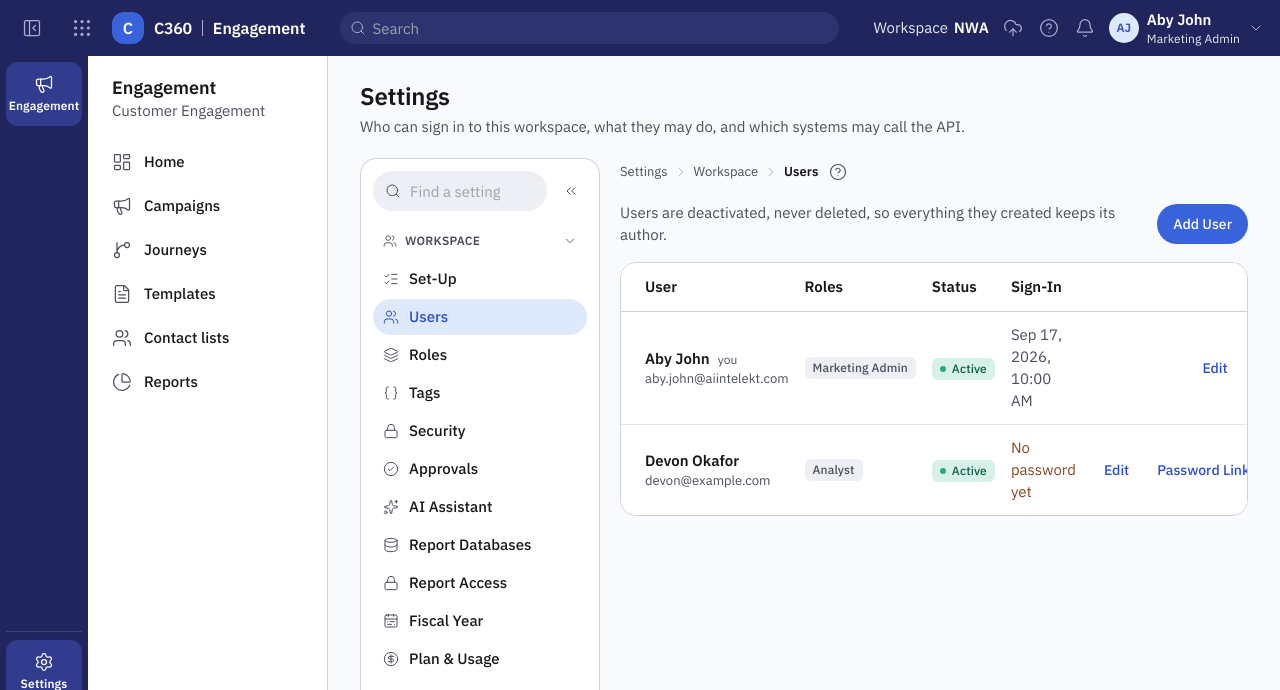
Test: add a user with a role: no password field exists, and the chosen roles are posted
This screenshot has width=1280, height=690.
Step 1. Click the button "Add User" → (1203, 224), box [1157,204,1248,244]
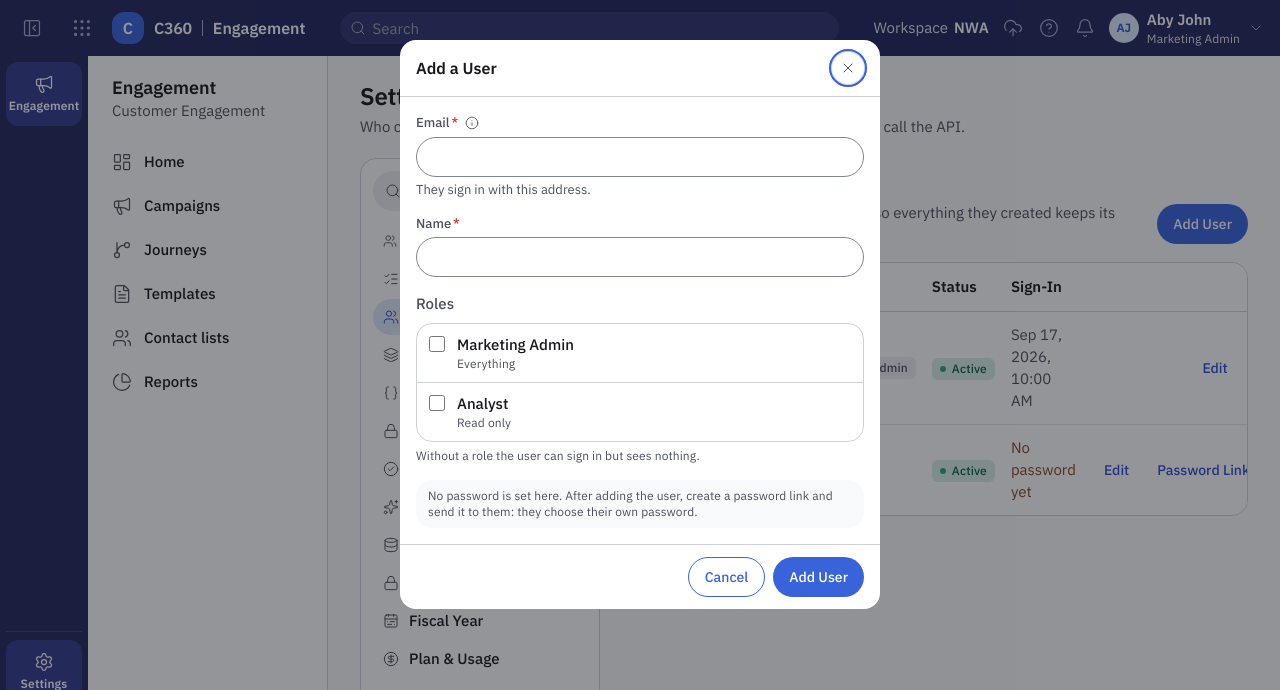
Step 2. Click the button "Add User" → (819, 577), box [773,557,864,597]
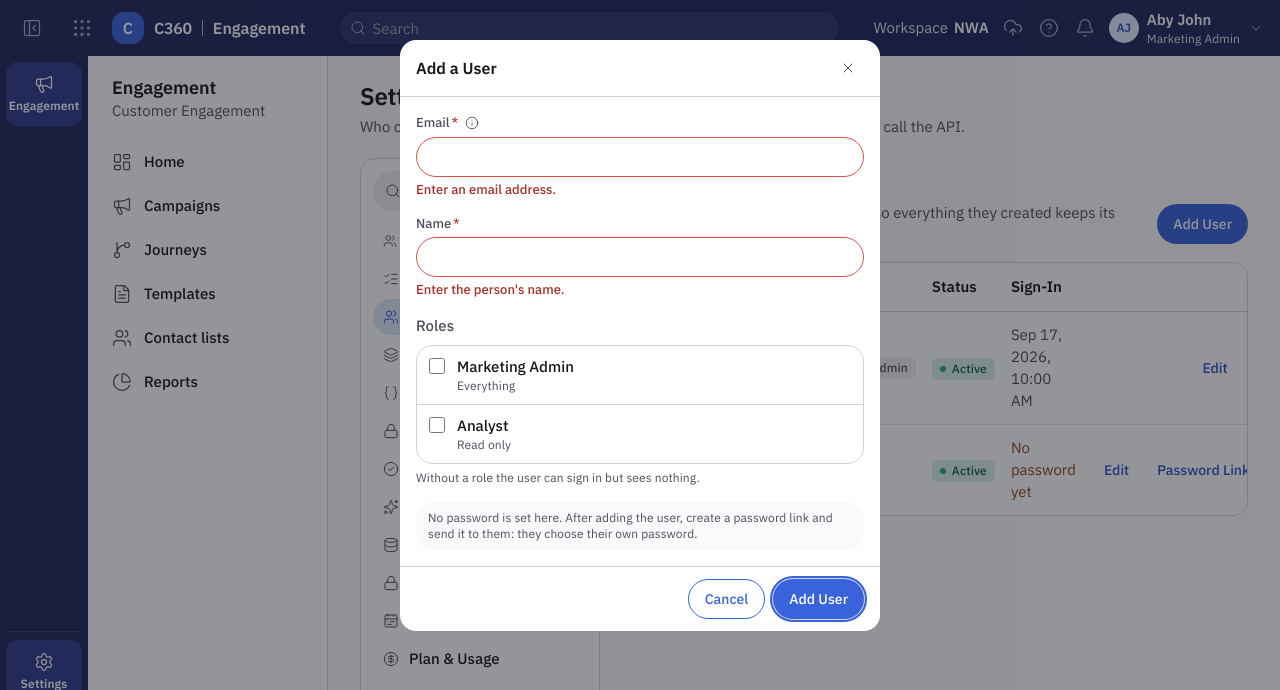
Expected: the text "Enter an email address." is shown, [416,181,556,198]
Step 3. Type "new.person@example.com" into the field labelled "Email*" → (640, 157), box [416,137,864,177]
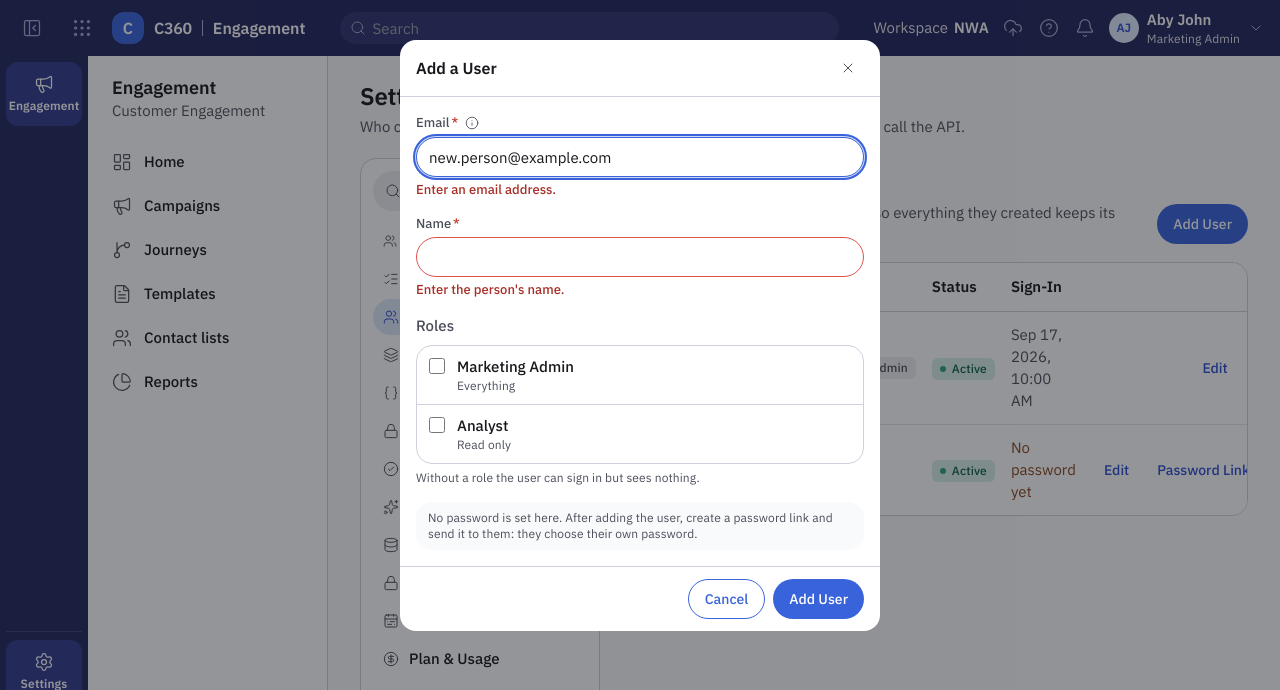
Step 4. Type "New Person" into the field labelled "Name*" → (640, 257), box [416,237,864,277]
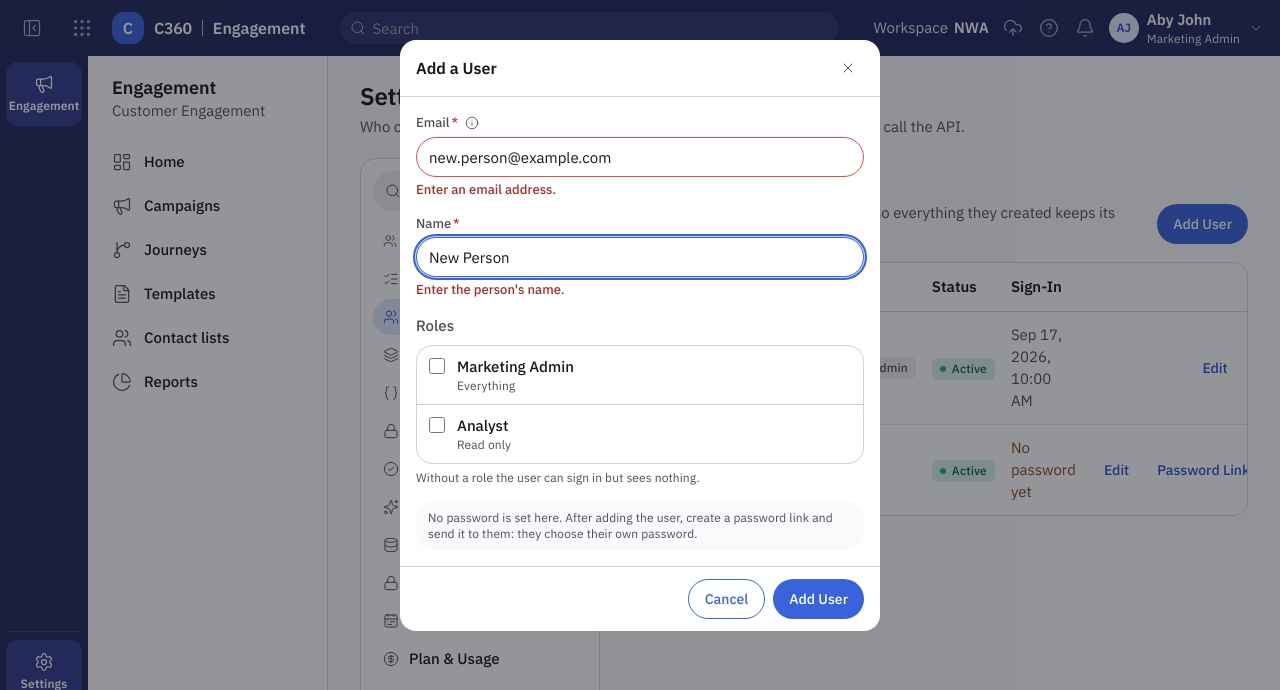
Step 5. Click the checkbox labelled "Analyst Read only" → (437, 425), box [429,417,445,433]
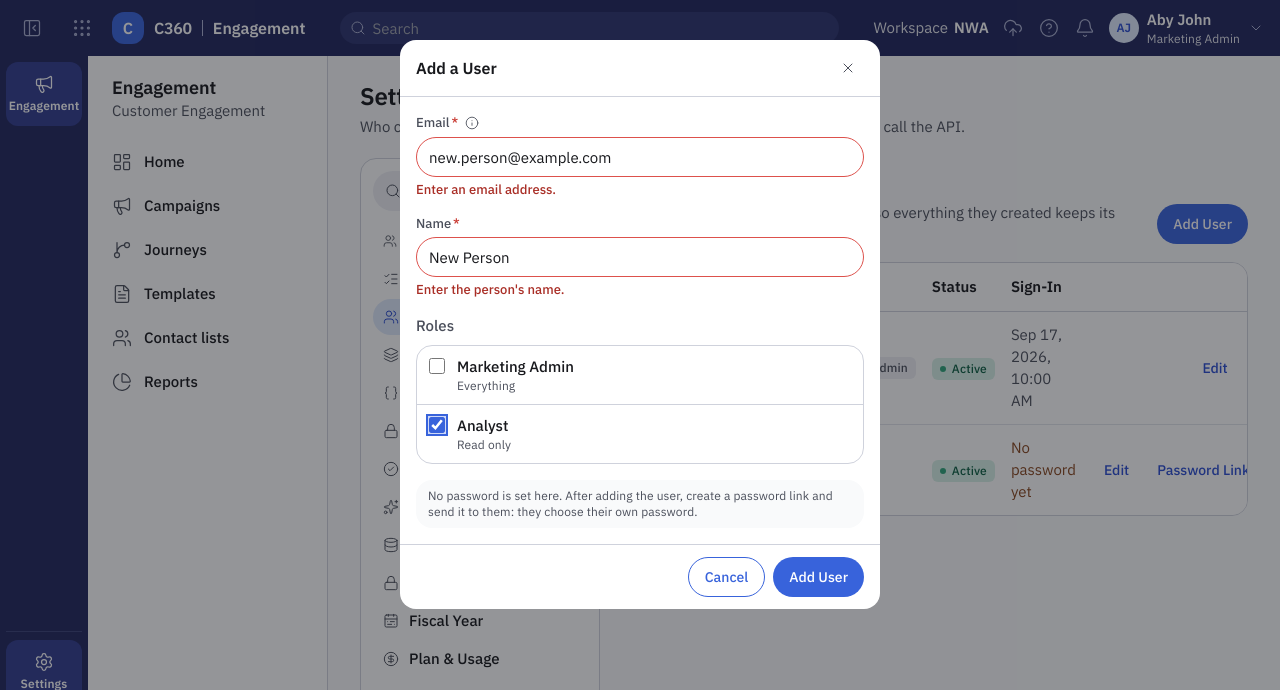
Step 6. Click the button "Add User" → (819, 577), box [773,557,864,597]
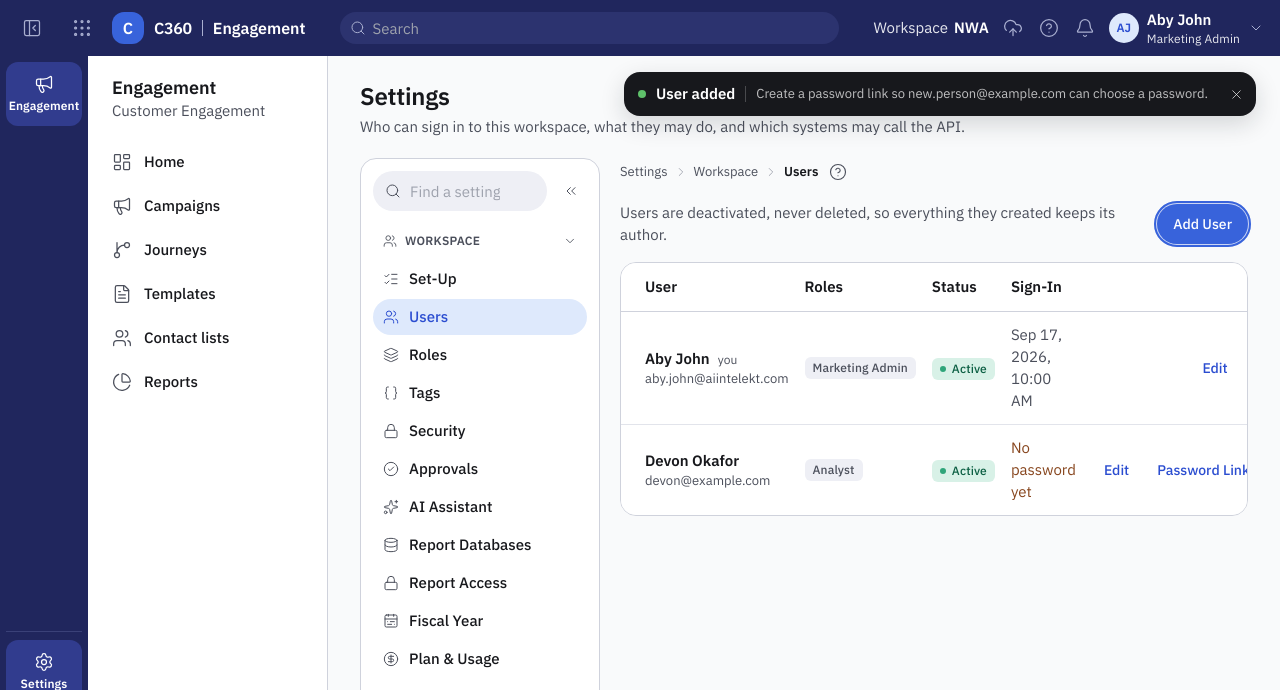
Expected: the dialog is gone
